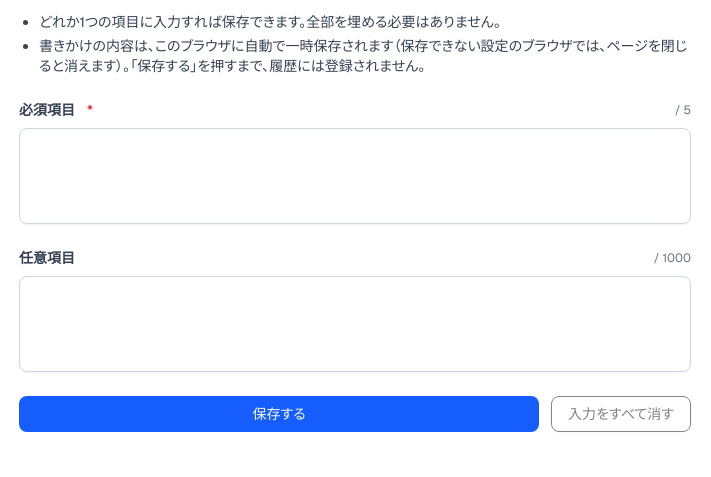
Test: ReflectionForm 保存時の検証エラーの消去 › 必須エラーは、その項目に入力したら消える（他の項目のエラーは残る）
Type "x" into the text box labelled "任意項目" at (355, 324), box [19,276,691,372]
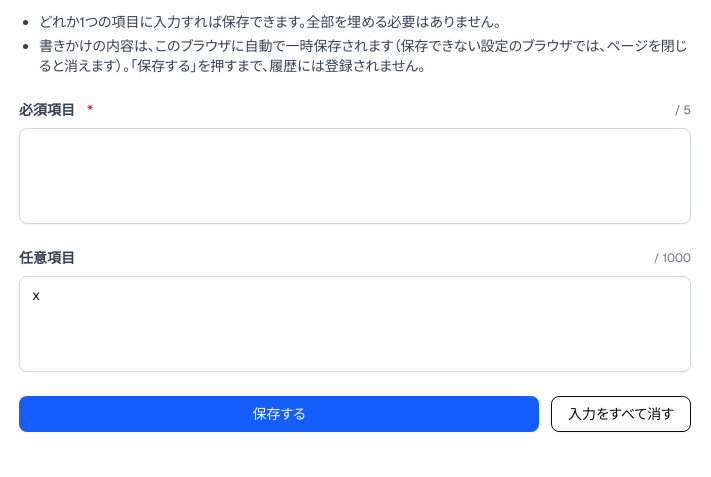
Click the button "保存する" at (279, 414), box [19,396,539,432]
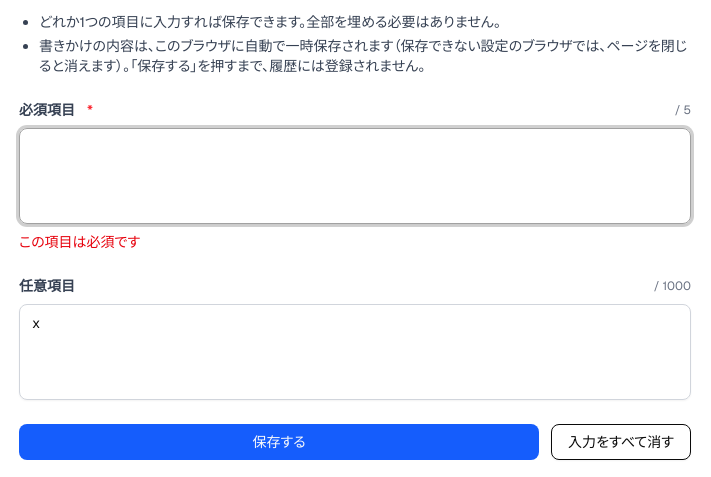
Check: the text "この項目は必須です" is shown, box [19,233,140,251]
Replace the text in the text box labelled "任意項目" with "xy" at (355, 352), box [19,304,691,400]
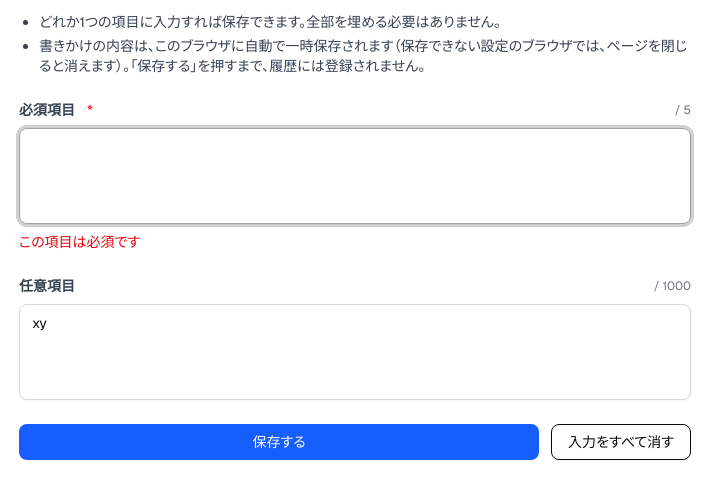
Check: the text "この項目は必須です" is shown, box [19,233,140,251]
Type "ok" into the text box labelled "必須項目 *" at (355, 176), box [19,128,691,224]
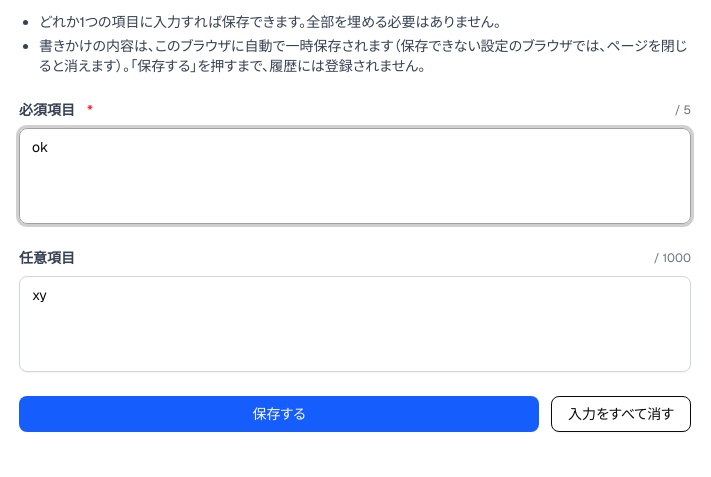
Check: the text "この項目は必須です" is gone
